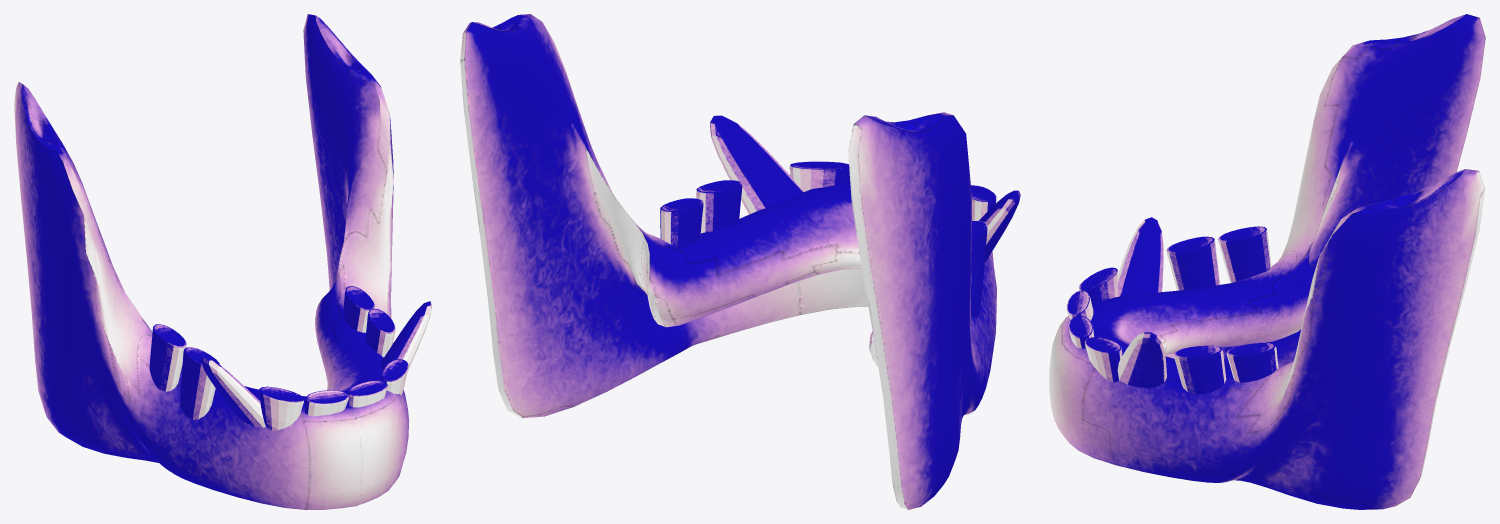
The model's file is skull down.glb.
3 renders of one model, left to right at view 1: azimuth 30°, elevation 25°; view 2: azimuth 150°, elevation 25°; view 3: azimuth 270°, elevation 25°, orthographic. The views are drawn at different scales.
Parts seen in each view (by area): view 1: Cube.005; view 2: Cube.005; view 3: Cube.005.
Boxes of the visible parts, <box> form: Cube.005: <box>14,14,431,509</box>; Cube.005: <box>460,14,1020,509</box>; Cube.005: <box>1049,14,1485,509</box>.
Size of the model in its own units: 22.75 by 21.44 by 24.35.
Materials: 2 (2 with a texture image).
